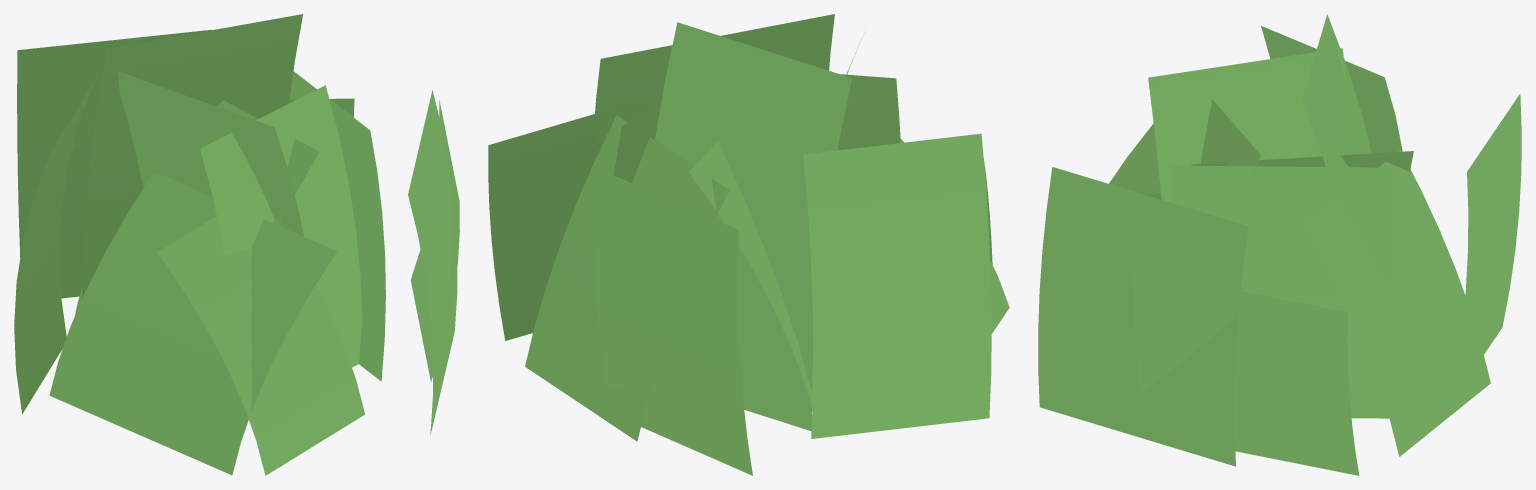
The model's file is SM_GrassClump_LOD0.fbx.
3 renders of one model, left to right at view 1: azimuth 30°, elevation 25°; view 2: azimuth 150°, elevation 25°; view 3: azimuth 270°, elevation 25°, orthographic. The views are drawn at different scales.
Parts seen in each view (by area): view 1: SM_GrassClump_LOD0; view 2: SM_GrassClump_LOD0; view 3: SM_GrassClump_LOD0.
Boxes of the visible parts, bbox=[...] form: SM_GrassClump_LOD0: bbox=[14, 14, 459, 475]; SM_GrassClump_LOD0: bbox=[488, 14, 1009, 475]; SM_GrassClump_LOD0: bbox=[1038, 14, 1521, 475].
Bounding box in the file's own units: 50.92 × 34.21 × 48.23.
